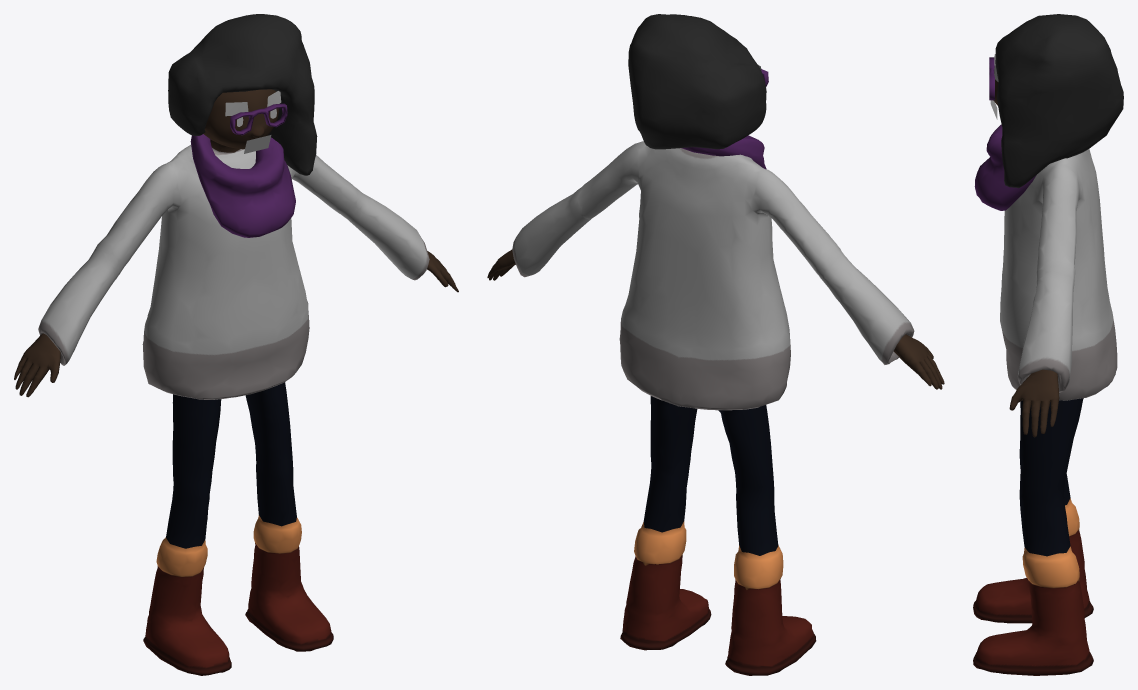
The model's file is girl1_noglasses_8.fbx.
The picture shows the model from 3 angles, left to right: view 1: azimuth 30°, elevation 25°; view 2: azimuth 150°, elevation 25°; view 3: azimuth 270°, elevation 25°; orthographic projection. The views are drawn at different scales.
Parts seen in each view (by area): view 1: polySurface8; view 2: polySurface8; view 3: polySurface8.
Boxes of the visible parts, x1,y1,x2,y2 form: polySurface8: [14, 14, 458, 675]; polySurface8: [487, 14, 944, 675]; polySurface8: [973, 14, 1123, 675].
Bounding box in the file's own units: 115 × 153 × 33.19.
Materials: 2 (1 with a texture image).
